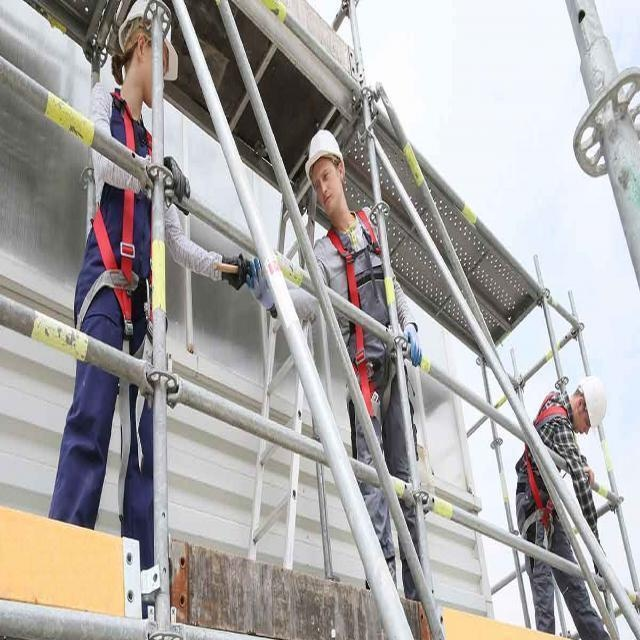Arnes_seguridad: (77, 87, 168, 350), (313, 203, 419, 409)
